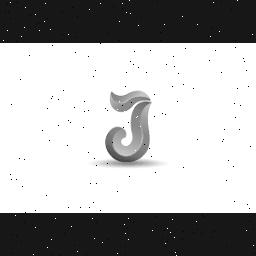j: (102, 86, 156, 170)
